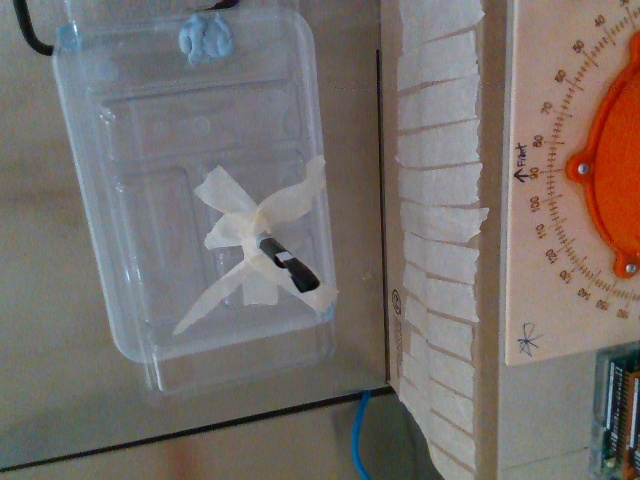test_strip: (273, 250, 318, 295)
